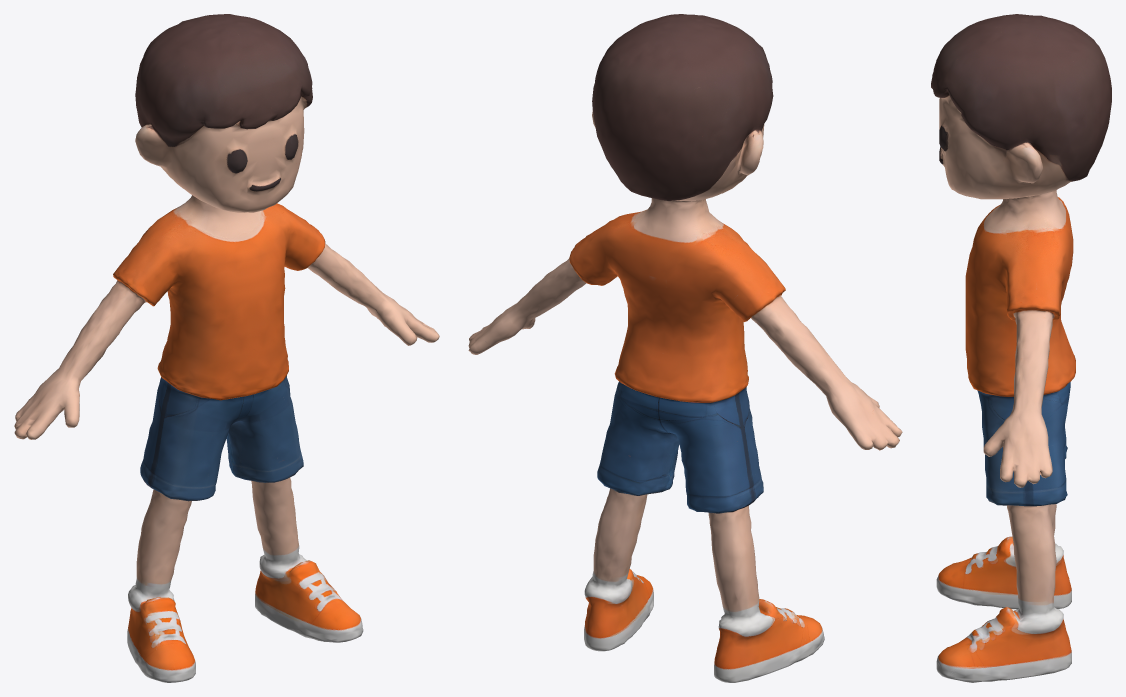
File: Meshy_AI_low_poly_boy_without__0313152030_texture.fbx
3 views of the same model, side by side, from view 1: azimuth 30°, elevation 25°; view 2: azimuth 150°, elevation 25°; view 3: azimuth 270°, elevation 25° (orthographic). The views are drawn at different scales.
Visible parts, largest first — view 1: Mesh_0; view 2: Mesh_0; view 3: Mesh_0.
Part boxes in pixels (x1,y1,x2,y2): Mesh_0: [14, 14, 439, 682]; Mesh_0: [468, 14, 902, 682]; Mesh_0: [931, 14, 1111, 682].
Bounding box in the file's own units: 144 × 200 × 53.8.
1 material, 1 textured.
